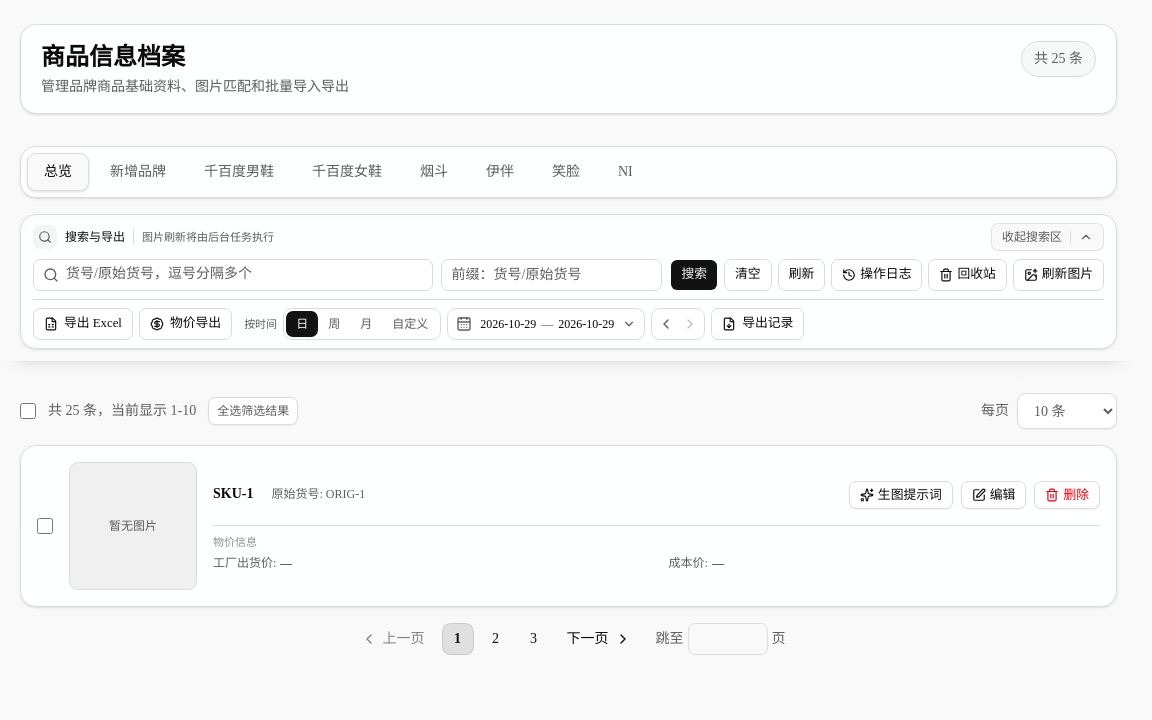
Test: cross-page selection keeps the same numeric ID in different brands and confirms a fixed snapshot
The width and height of the screenshot is (1152, 720).
Check: the checkbox named "选择当前页全部商品" is enabled, box left=20, top=403, right=36, bottom=419
Click the checkbox named "选择商品 SKU-1".
click(45, 526)  # box left=37, top=518, right=53, bottom=534
(page scrolled)
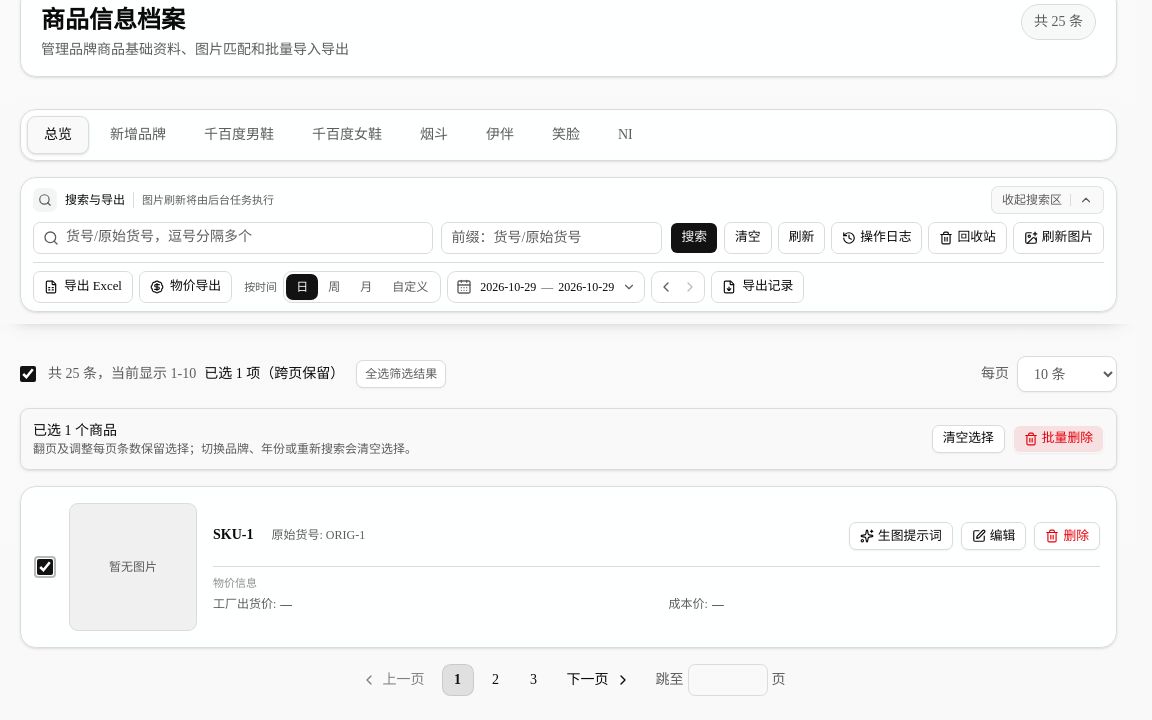
Click the button with aria-label "Go to next page".
click(598, 680)  # box left=556, top=664, right=640, bottom=696
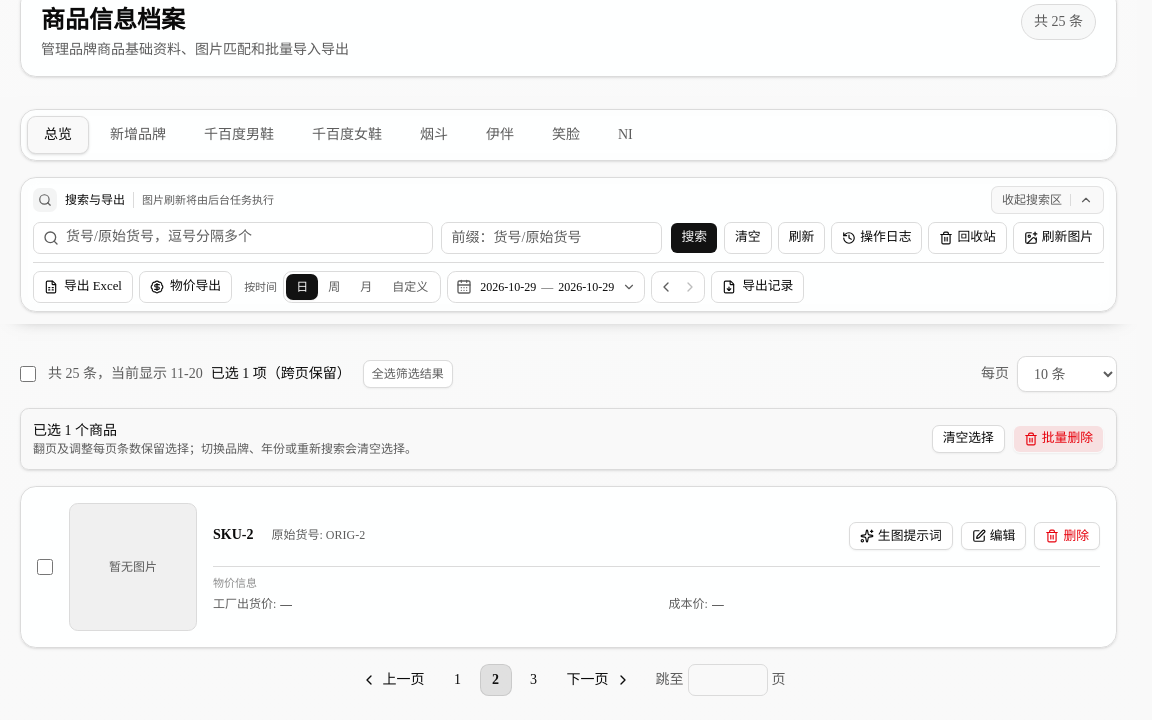
Check: the text "已选 1 个商品" is shown, box left=33, top=423, right=117, bottom=438
Click the checkbox named "选择商品 SKU-2".
click(45, 567)  # box left=37, top=559, right=53, bottom=575
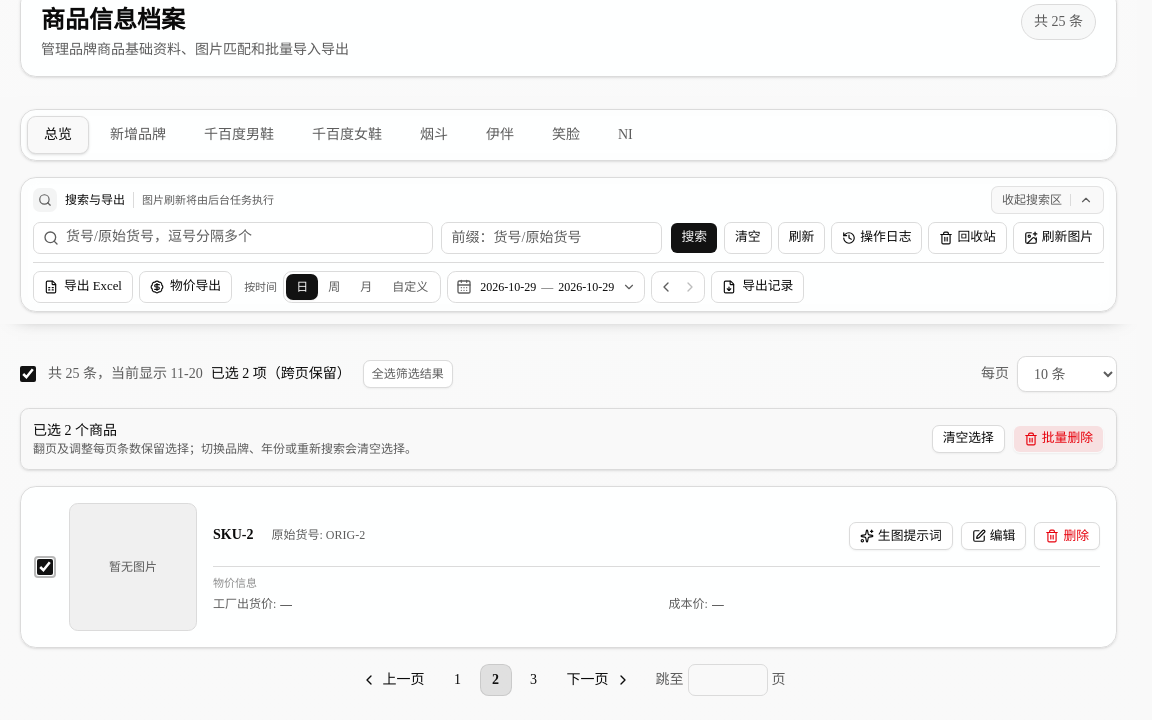
Check: the text "已选 2 项（跨页保留）" is shown, box left=211, top=366, right=351, bottom=381
Click the button "批量删除".
click(1058, 439)  # box left=1013, top=425, right=1104, bottom=453
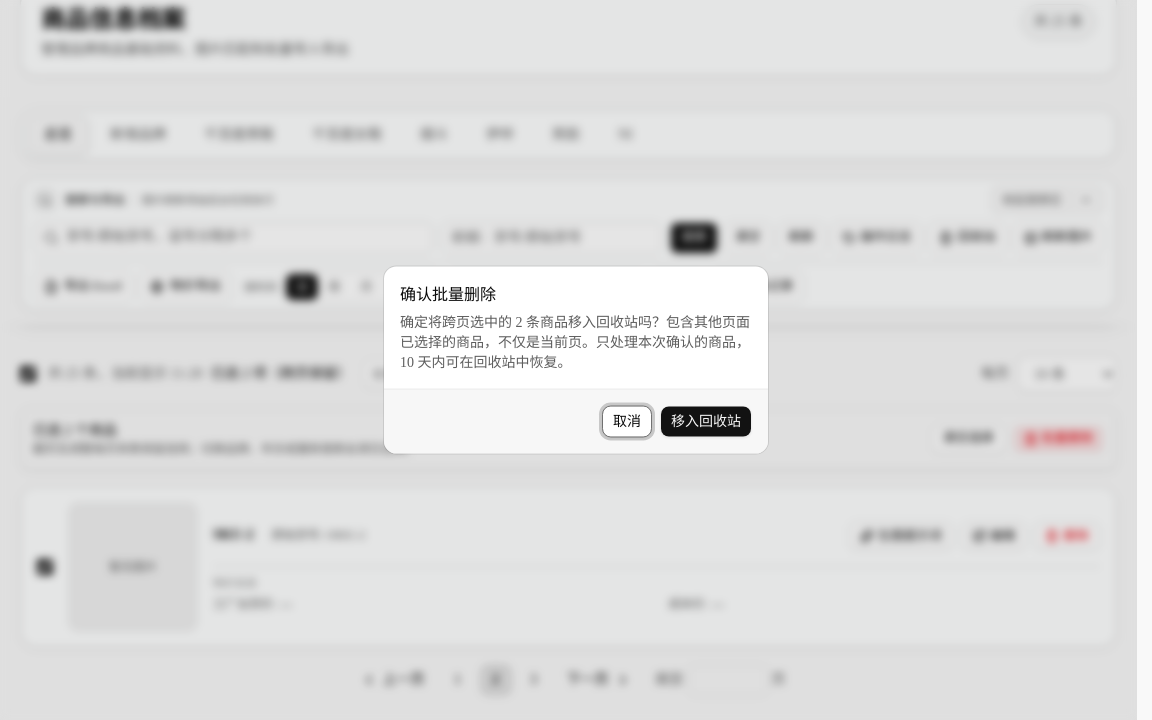
Check: the text "跨页选中的 2 条商品" shows "不仅是当前页", box left=400, top=314, right=750, bottom=370
Click the button "移入回收站".
click(706, 422)  # box left=660, top=406, right=752, bottom=438
(page scrolled)
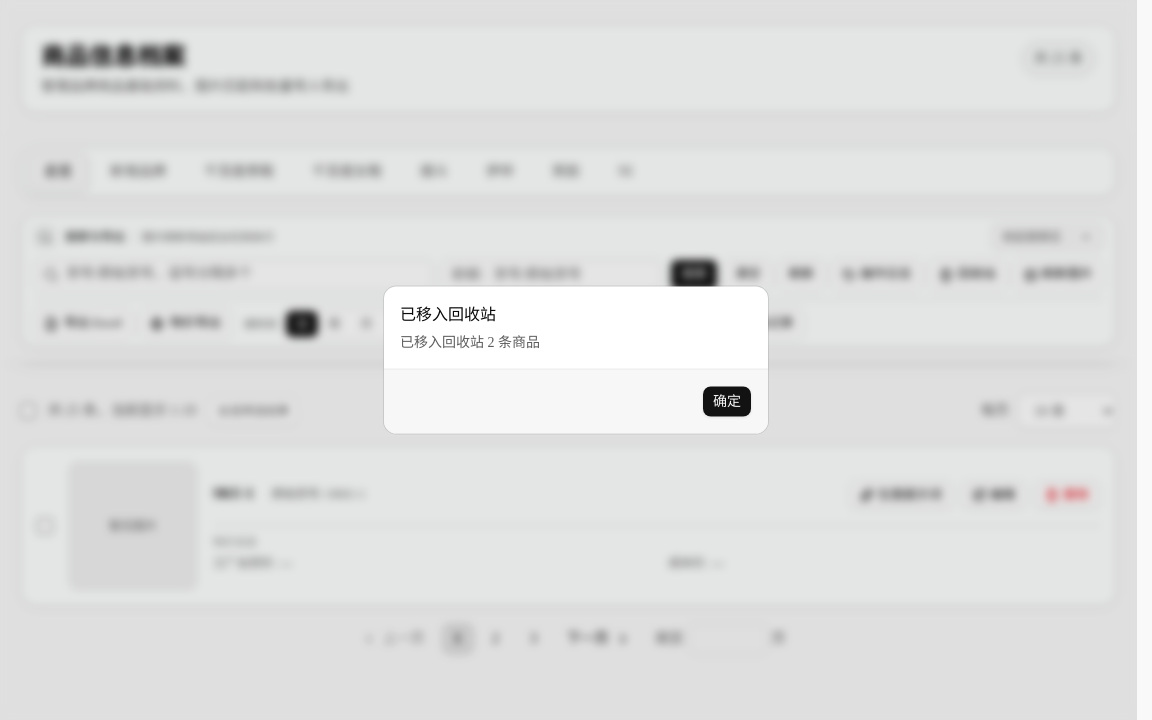
Check: the dialog "已移入回收站" shows "已移入回收站 2 条商品", box left=400, top=334, right=540, bottom=350
